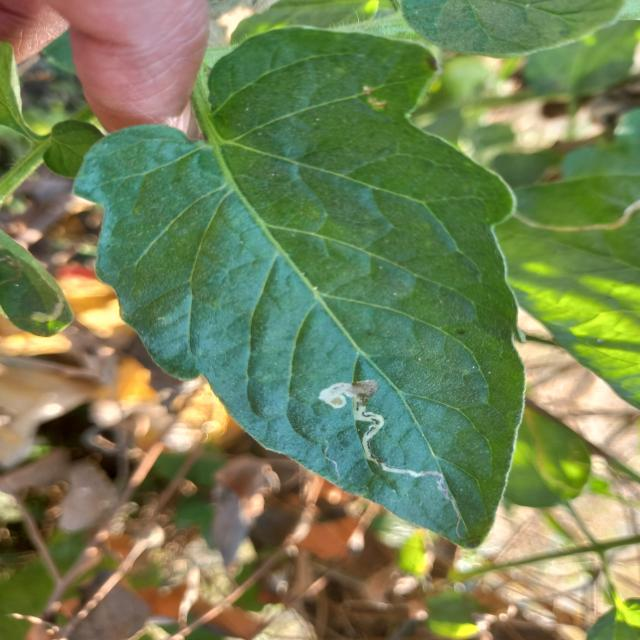Tuta absoluta: (316, 360, 464, 526)
